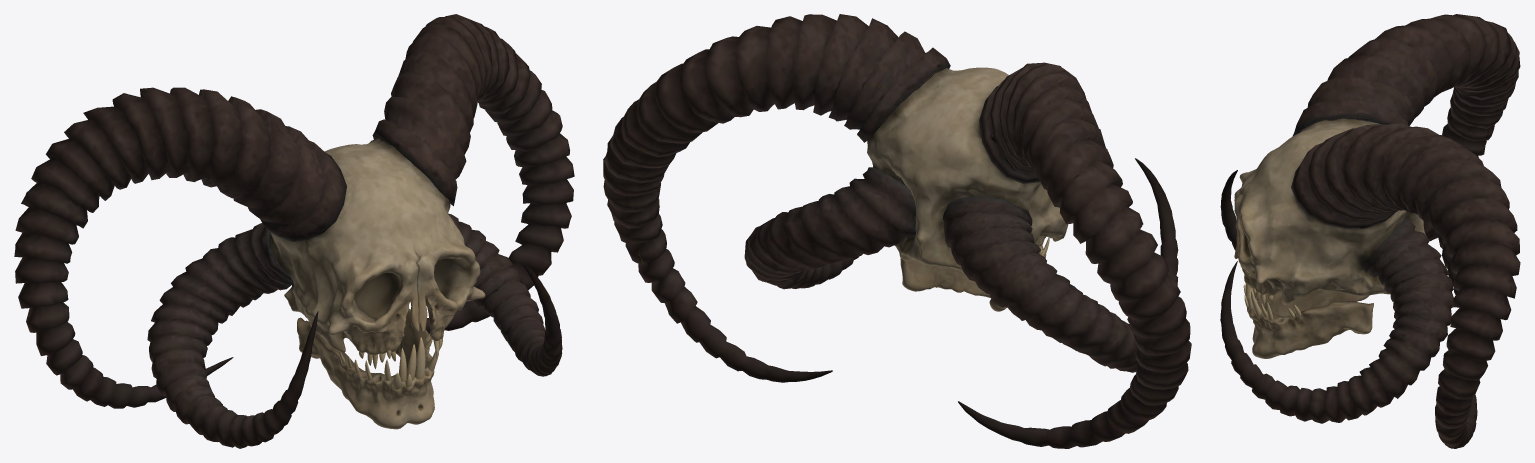
Rendered from demon_skull-transformed.glb.
3 views of the same model, side by side, from view 1: azimuth 30°, elevation 25°; view 2: azimuth 150°, elevation 25°; view 3: azimuth 270°, elevation 25° (orthographic). The views are drawn at different scales.
Visible parts, largest first — view 1: DemonSkull_DemonSkull_0; view 2: DemonSkull_DemonSkull_0; view 3: DemonSkull_DemonSkull_0.
Part boxes in pixels (x1,y1,x2,y2): DemonSkull_DemonSkull_0: (14,14,574,448); DemonSkull_DemonSkull_0: (603,14,1191,448); DemonSkull_DemonSkull_0: (1220,14,1520,448).
Size of the model in its own units: 0.5858 by 0.3315 by 0.3031.
Materials: 1 (1 with a texture image).
